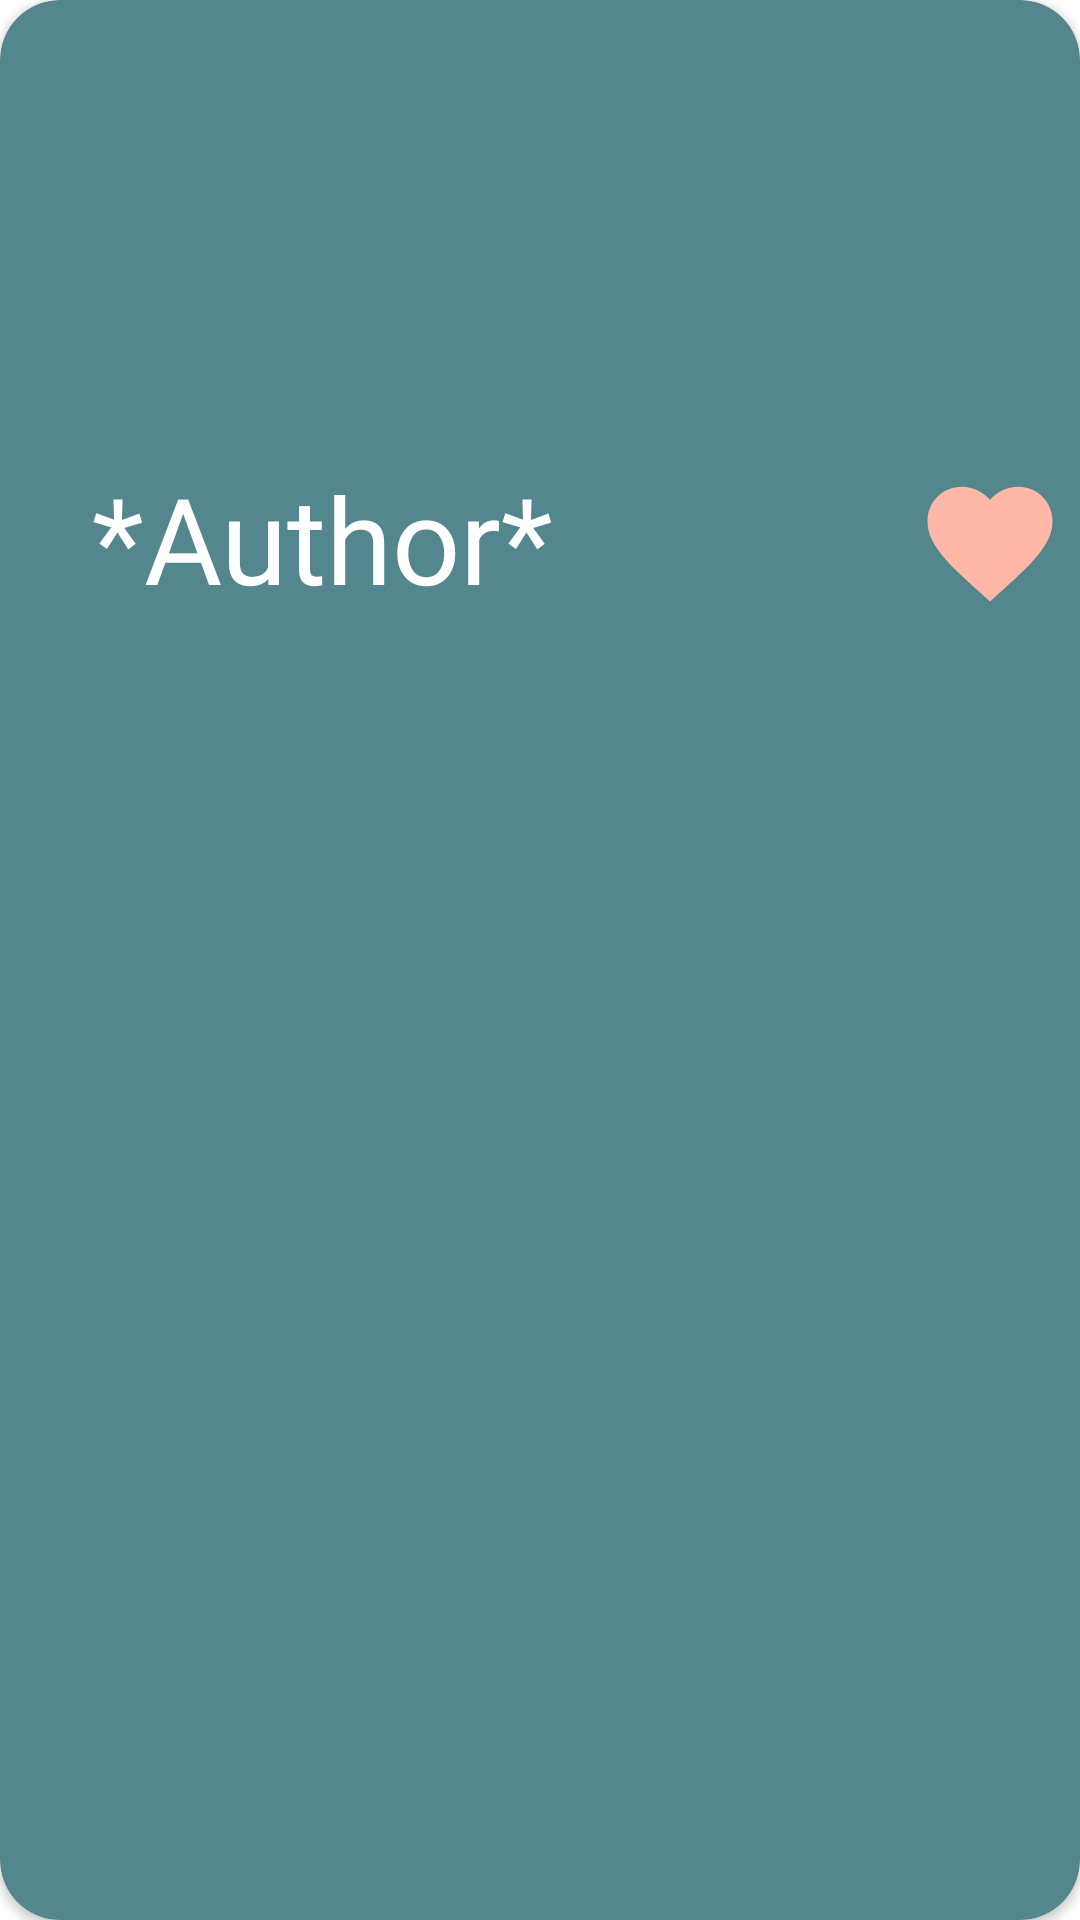

Named icons in this screenshot (1080 × 1920) and their centers, [x,y]:
favorite full: [990,543]
